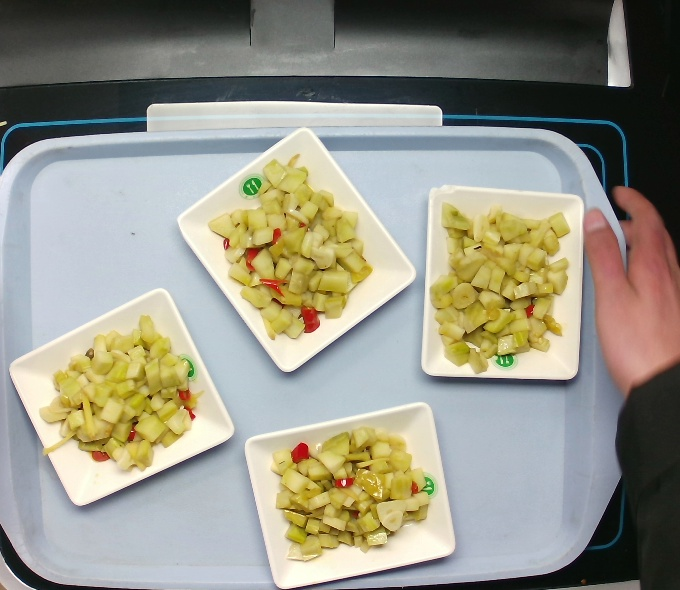wcq-YanHuaCaiGeng: (201, 144, 376, 351), (30, 308, 203, 480), (425, 199, 576, 380), (265, 425, 439, 565)
